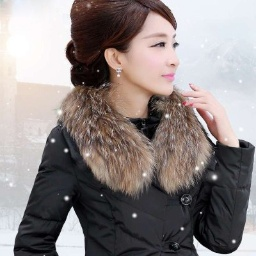face: (62, 1, 180, 99)
